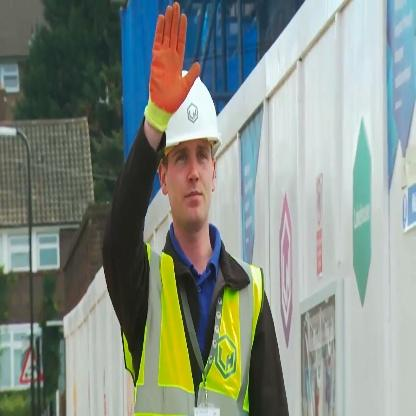helmet: (154, 63, 238, 241)
